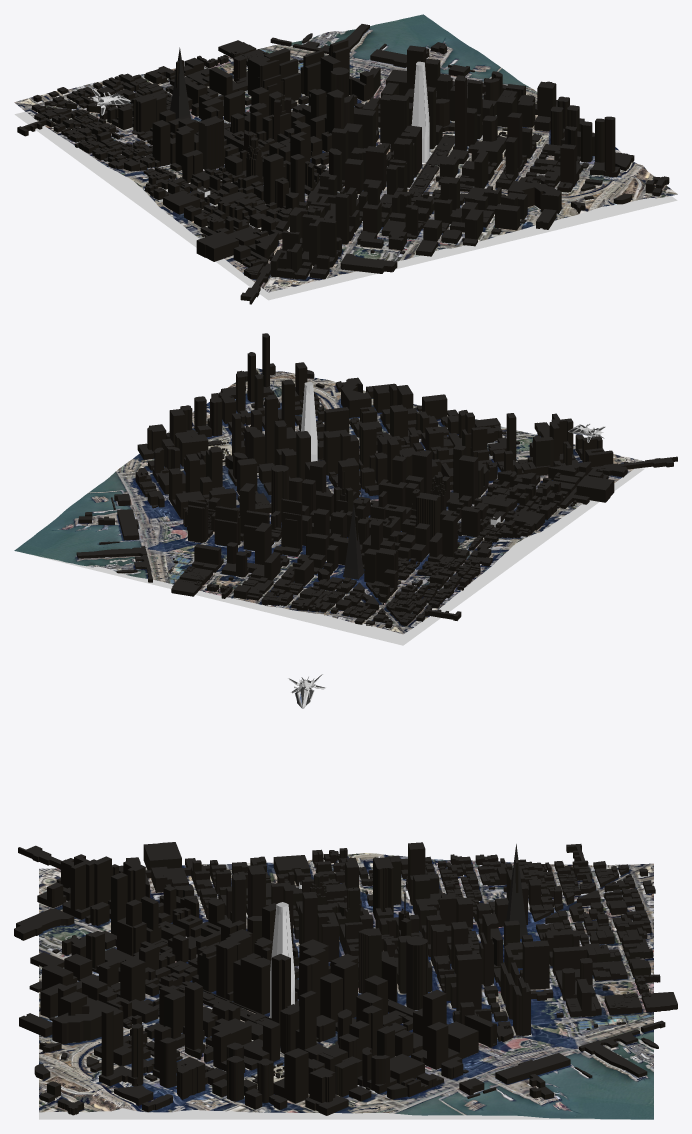
The model's file is cameraparenttry123.gltf.
3 renders of one model, top to bottom at view 1: azimuth 30°, elevation 25°; view 2: azimuth 150°, elevation 25°; view 3: azimuth 270°, elevation 25°, orthographic. The views are drawn at different scales.
Parts seen in each view (by area): view 1: map_15.osm_buildings, Terrain, Terrain_envelope; view 2: map_15.osm_buildings, Terrain, Terrain_envelope; view 3: map_15.osm_buildings, Terrain, Terrain_envelope.
Boxes of the visible parts, x1,y1,x2,y2 form: map_15.osm_buildings: (17, 24, 669, 304); Terrain: (14, 14, 677, 292); Terrain_envelope: (14, 111, 677, 300); map_15.osm_buildings: (76, 333, 677, 628); Terrain: (14, 368, 643, 634); Terrain_envelope: (21, 468, 644, 645); map_15.osm_buildings: (14, 842, 677, 1115); Terrain: (39, 853, 653, 1119); Terrain_envelope: (39, 1108, 630, 1119).
Size of what is drawn, in the model's own units: 1716 by 478 by 1703.
Materials: 9 (2 with a texture image).
